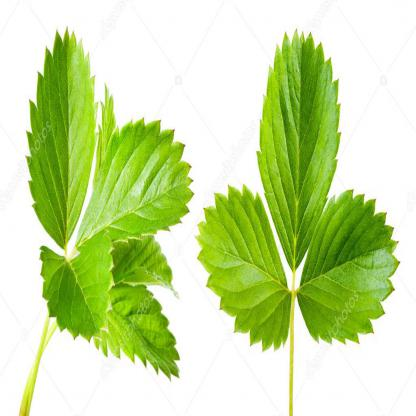strawberry leaf: (257, 26, 341, 267), (25, 27, 99, 252), (194, 185, 293, 353), (304, 187, 403, 346), (87, 115, 195, 242), (39, 236, 118, 347)
